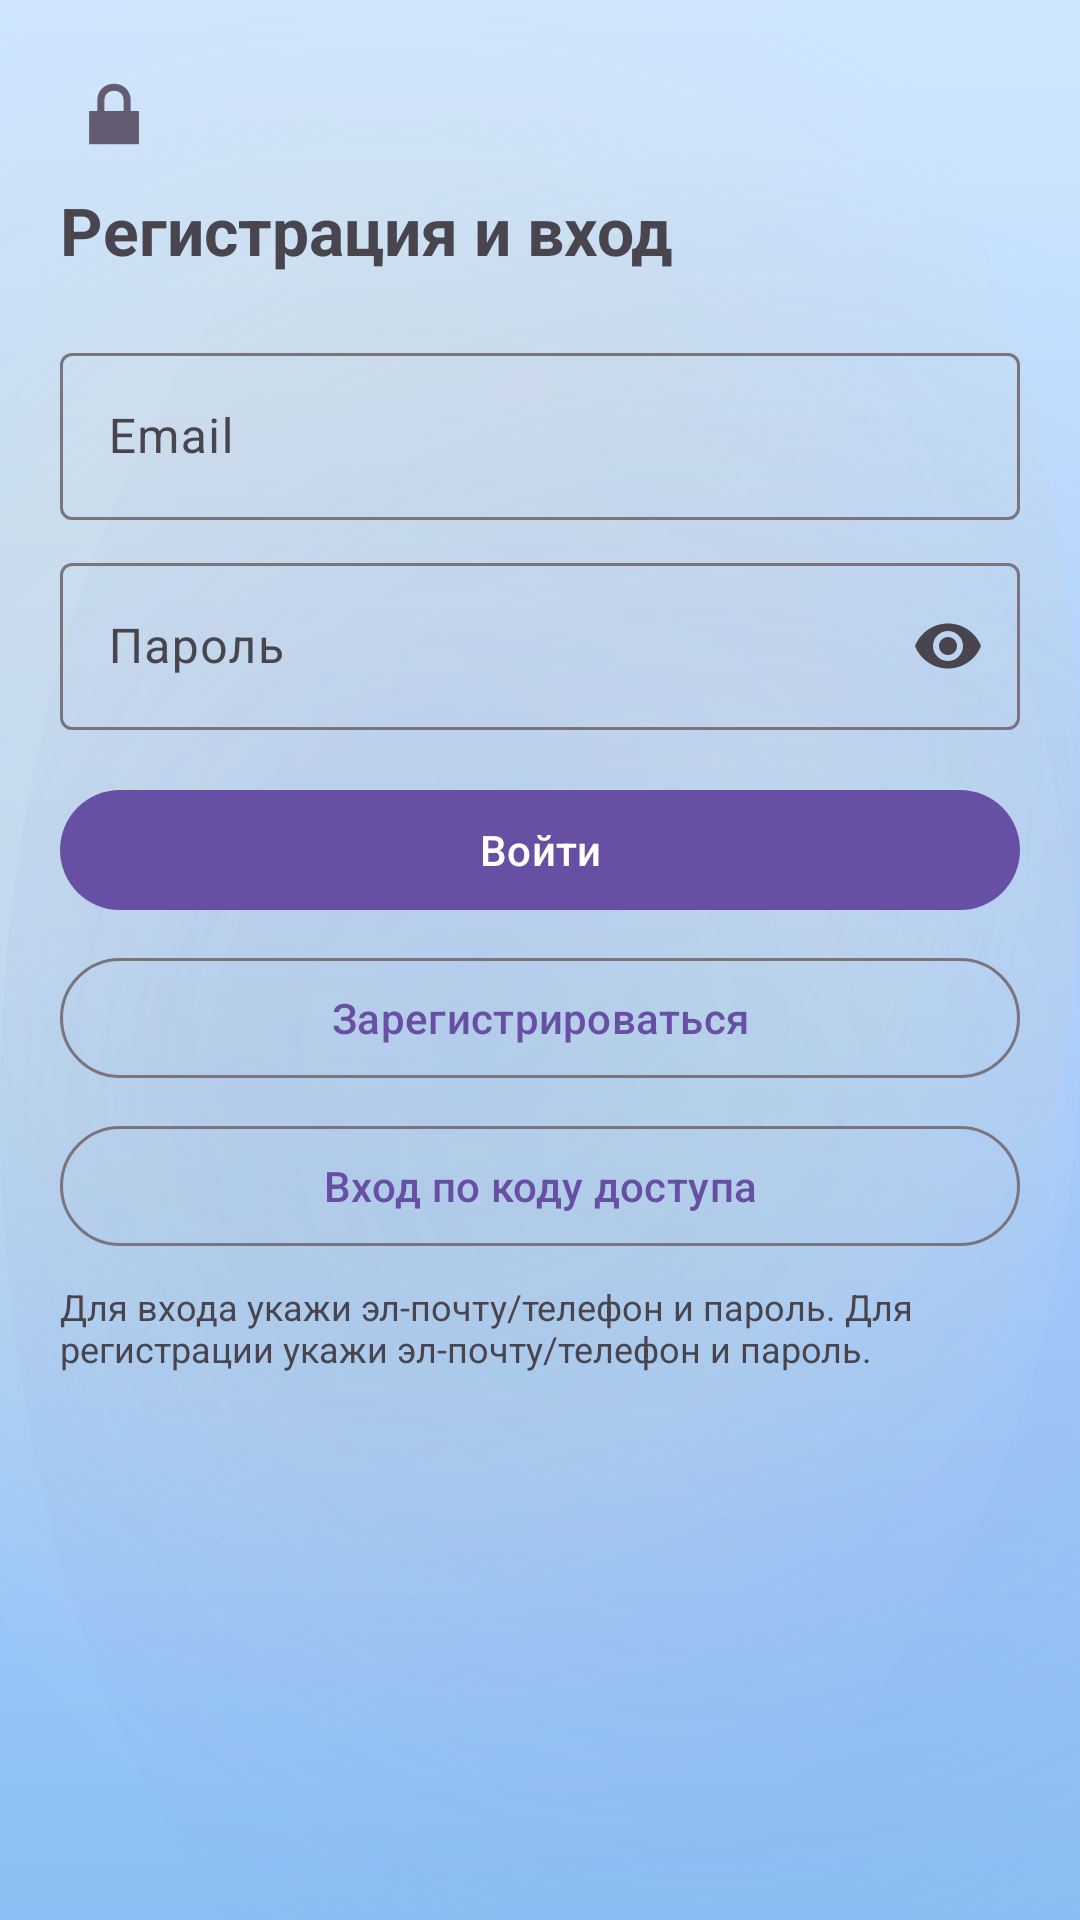

Icon bounding boxes for this 1080w x 1920h phone screenshot, format (x1, y1, x2, y2):
Вход администратора: (89, 83, 139, 145)
